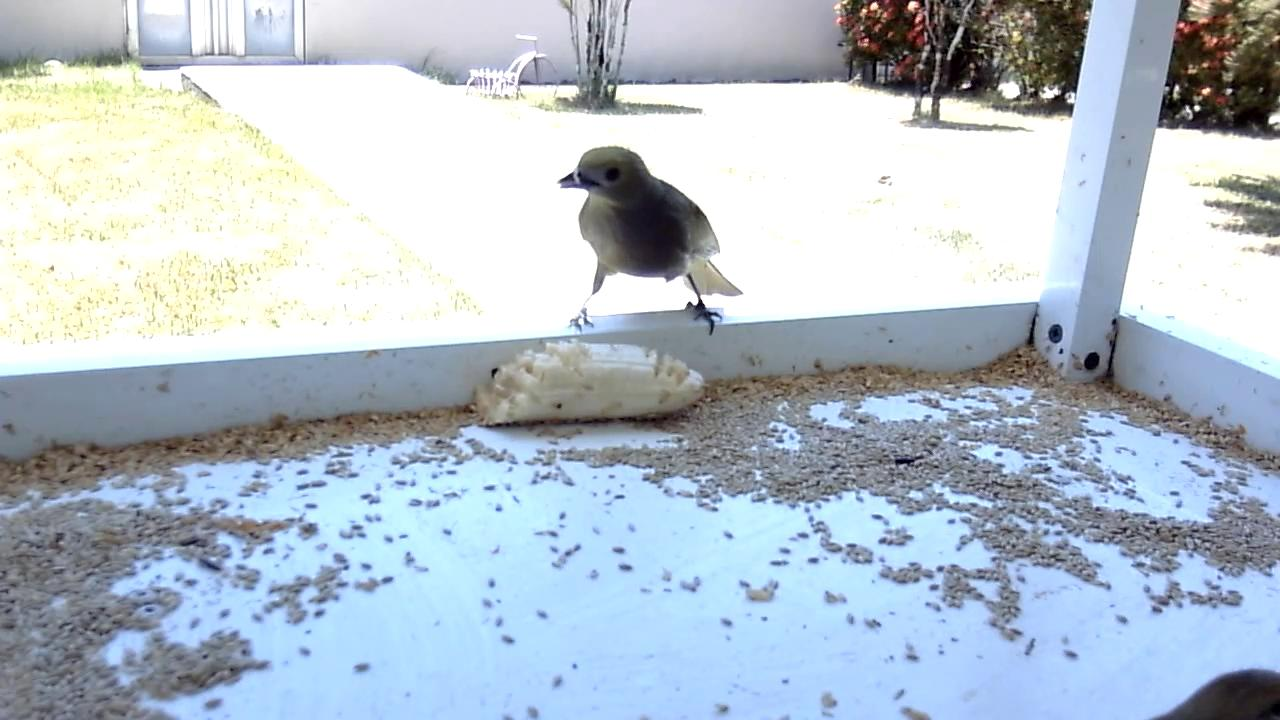sanhaco_do_coqueiro: (555, 143, 747, 338)
